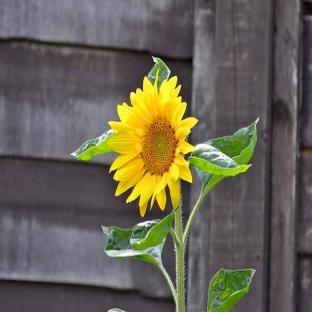sunflower: (71, 64, 198, 312)
